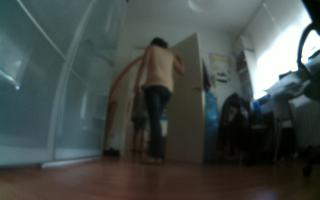person: (130, 32, 187, 166), (129, 82, 151, 159)
